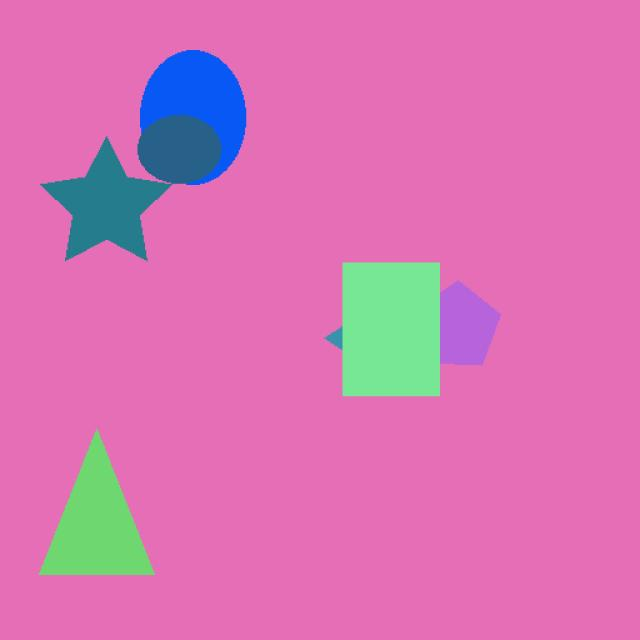Circle: (134, 39, 255, 196)
Oval: (135, 104, 236, 199)
Pentagon: (426, 268, 508, 386)
Rectangle: (335, 254, 453, 418)
Star: (36, 125, 178, 292)
Triangle: (21, 411, 176, 604), (317, 310, 415, 383)
